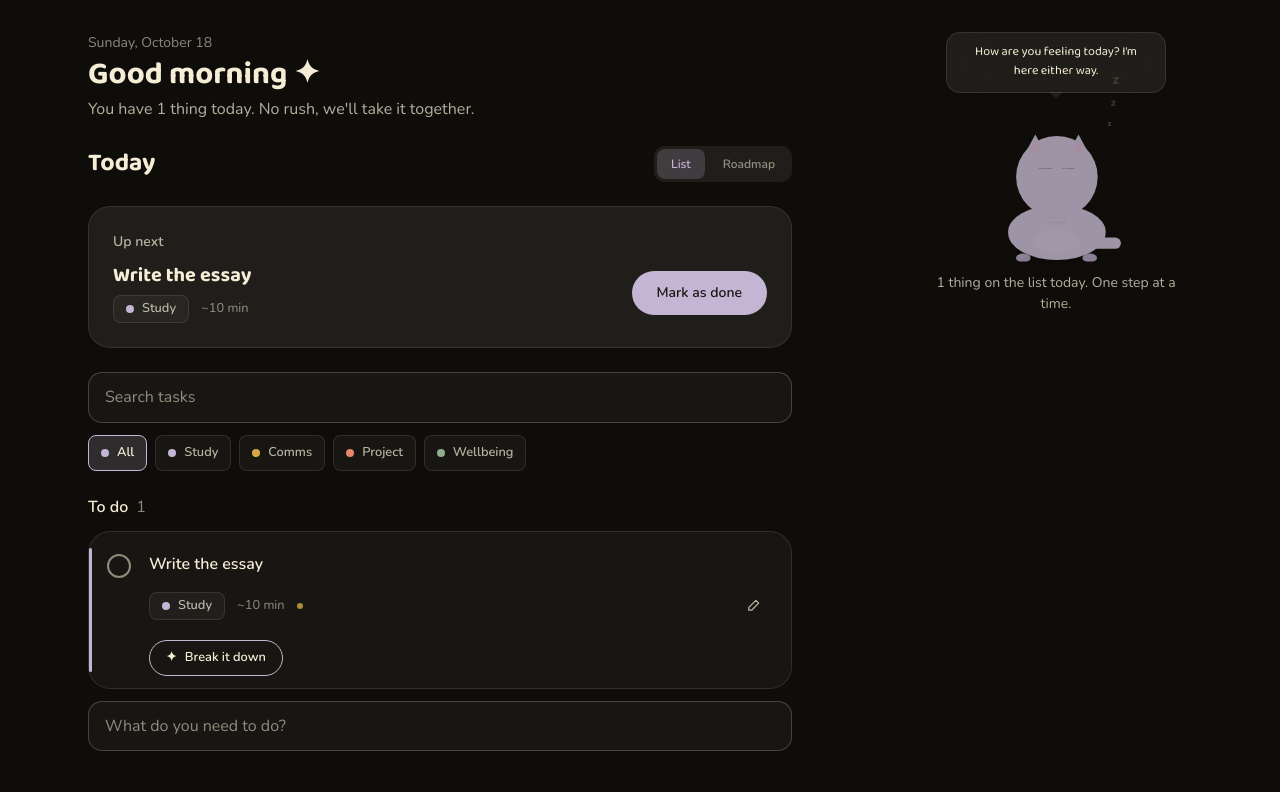
Scenario: axe: interactive states › a task CalmSense couldn't break down
This screenshot has width=1280, height=792.
Click the button named "Break down \"Write the essay\" into steps" at [216, 658], box [149,640,283,676]
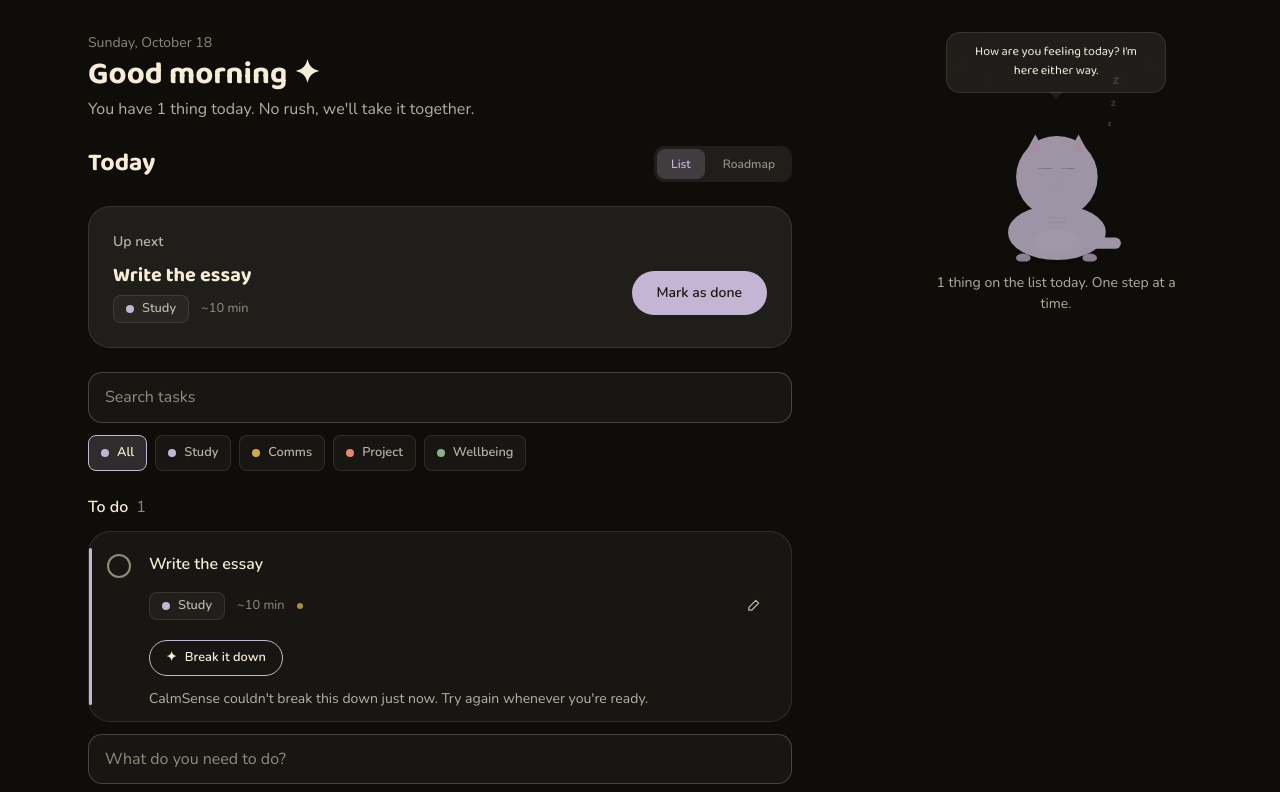
Result: the text "CalmSense couldn't break this down just now. Try again whenever you're ready." is shown at [149,688,648,708]
